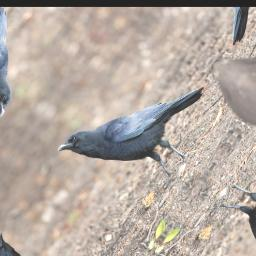Crow: (55, 45, 229, 209)
